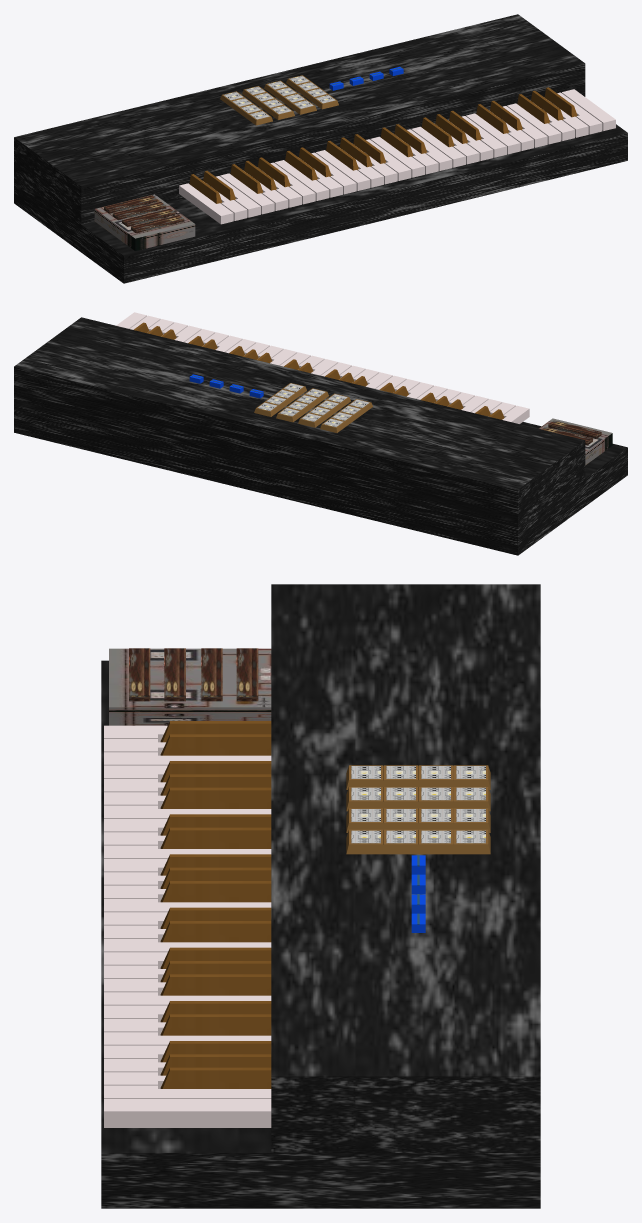
File: Music_keyboard__0110.glb
The picture shows the model from 3 angles, top to bottom: view 1: azimuth 30°, elevation 25°; view 2: azimuth 150°, elevation 25°; view 3: azimuth 270°, elevation 25°; orthographic projection. The views are drawn at different scales.
Parts seen in each view (by area): view 1: chassis::control_deck, chassis::base_shell, chassis::bender_block, white_key_0::key_body, white_key_28::key_body, white_key_7::key_body, white_key_10::key_body, white_key_24::key_body, white_key_3::key_body, white_key_21::key_body, white_key_14::key_body, white_key_17::key_body (+32 smaller); view 2: chassis::control_deck, chassis::base_shell, chassis::bender_block, chassis::bend_strip_0, white_key_0::key_body; view 3: chassis::control_deck, chassis::base_shell, chassis::bender_block, white_key_28::key_body, black_key_9::key_body, black_key_11::key_body, black_key_1::key_body, black_key_14::key_body, black_key_16::key_body, black_key_4::key_body, black_key_6::key_body, black_key_19::key_body (+32 smaller).
Boxes of the visible parts, x1=… form: chassis::control_deck: x1=14, y1=14, x2=585, y2=224; chassis::base_shell: x1=14, y1=124, x2=627, y2=283; chassis::bender_block: x1=94, y1=194, x2=195, y2=250; white_key_0::key_body: x1=179, y1=183, x2=233, y2=224; white_key_28::key_body: x1=561, y1=89, x2=615, y2=130; white_key_7::key_body: x1=274, y1=160, x2=329, y2=200; white_key_10::key_body: x1=315, y1=150, x2=370, y2=190; white_key_24::key_body: x1=507, y1=103, x2=561, y2=144; white_key_3::key_body: x1=220, y1=173, x2=274, y2=214; white_key_21::key_body: x1=466, y1=113, x2=520, y2=154; white_key_14::key_body: x1=370, y1=136, x2=424, y2=177; white_key_17::key_body: x1=411, y1=126, x2=465, y2=167; chassis::control_deck: x1=14, y1=317, x2=585, y2=527; chassis::base_shell: x1=14, y1=405, x2=627, y2=555; chassis::bender_block: x1=538, y1=418, x2=612, y2=465; chassis::bend_strip_0: x1=548, y1=420, x2=601, y2=438; white_key_0::key_body: x1=502, y1=405, x2=529, y2=423; chassis::control_deck: x1=271, y1=584, x2=540, y2=1152; chassis::base_shell: x1=101, y1=660, x2=540, y2=1208; chassis::bender_block: x1=109, y1=648, x2=271, y2=725; white_key_28::key_body: x1=104, y1=1099, x2=271, y2=1127; black_key_9::key_body: x1=160, y1=881, x2=271, y2=902; black_key_11::key_body: x1=160, y1=921, x2=271, y2=942; black_key_1::key_body: x1=160, y1=734, x2=271, y2=755; black_key_14::key_body: x1=160, y1=974, x2=271, y2=995; black_key_16::key_body: x1=160, y1=1014, x2=271, y2=1035; black_key_4::key_body: x1=160, y1=787, x2=271, y2=808; black_key_6::key_body: x1=160, y1=827, x2=271, y2=848; black_key_19::key_body: x1=160, y1=1067, x2=271, y2=1088.
Bounding box in the file's own units: 0.7565 × 0.1014 × 0.2856.
9 materials, 8 textured.
